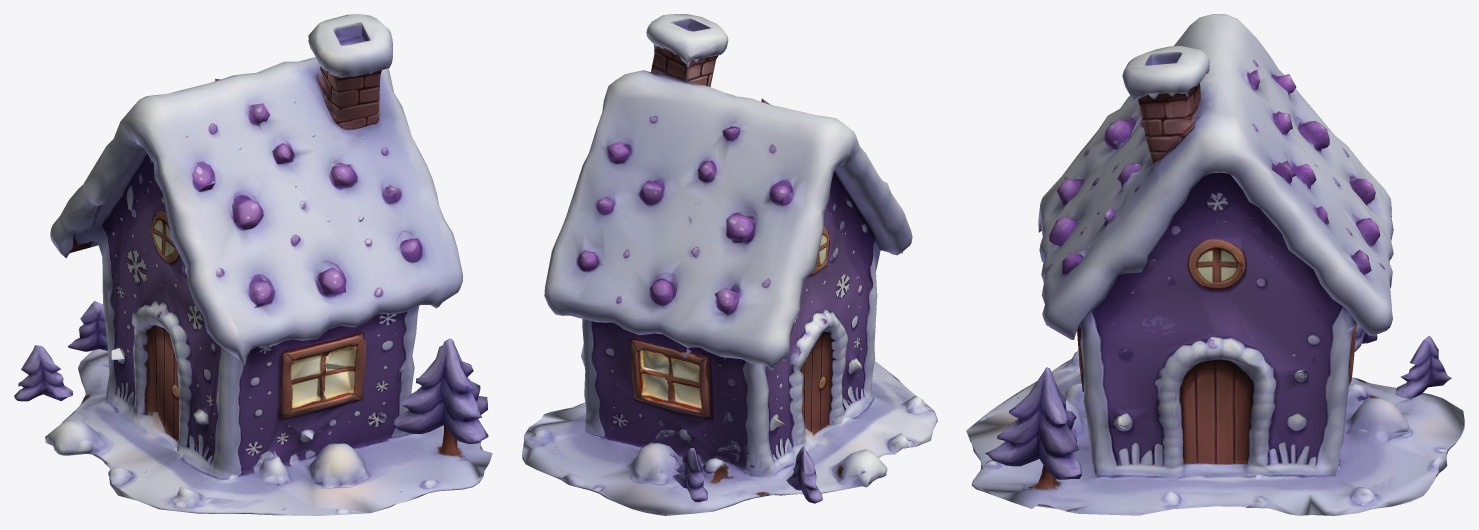
File: house_purple.glb
3 views of the same model, side by side, from view 1: azimuth 30°, elevation 25°; view 2: azimuth 150°, elevation 25°; view 3: azimuth 270°, elevation 25° (orthographic). The views are drawn at different scales.
Visible parts, largest first — view 1: tripo_node_f20a26d6; view 2: tripo_node_f20a26d6; view 3: tripo_node_f20a26d6.
Boxes of the visible parts, x1,y1,x2,y2 form: tripo_node_f20a26d6: (14,14,492,515); tripo_node_f20a26d6: (522,14,937,515); tripo_node_f20a26d6: (966,14,1464,515).
Size of the model in its own units: 81.33 by 90.11 by 97.51.
Materials: 1 (1 with a texture image).
